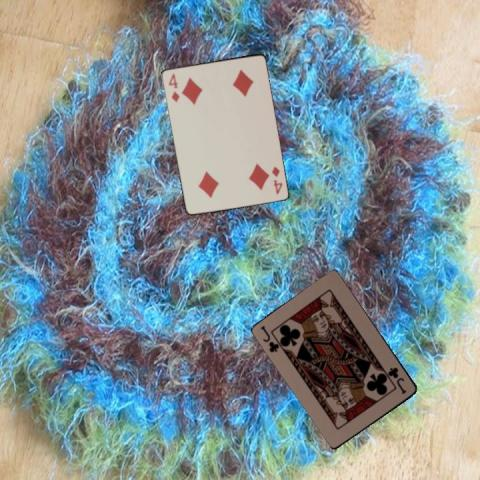4d: (165, 71, 181, 103), (269, 163, 283, 196)
Jc: (386, 364, 409, 395), (258, 323, 281, 354)
